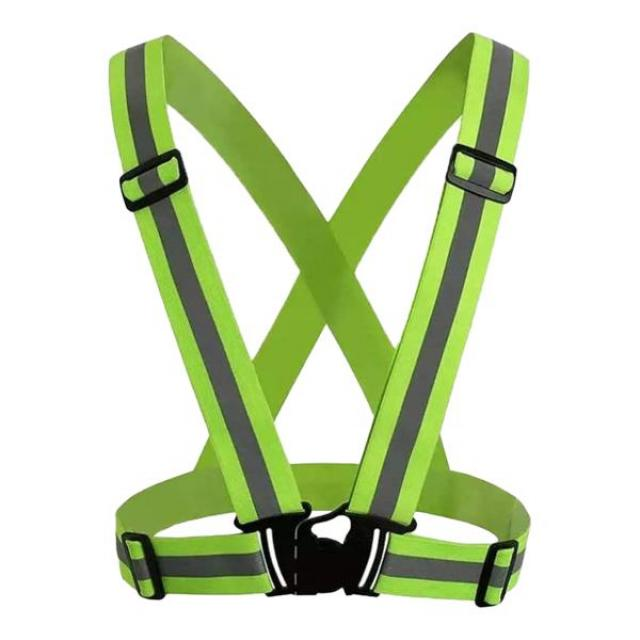Reflective-Jacket: (43, 14, 577, 632)
